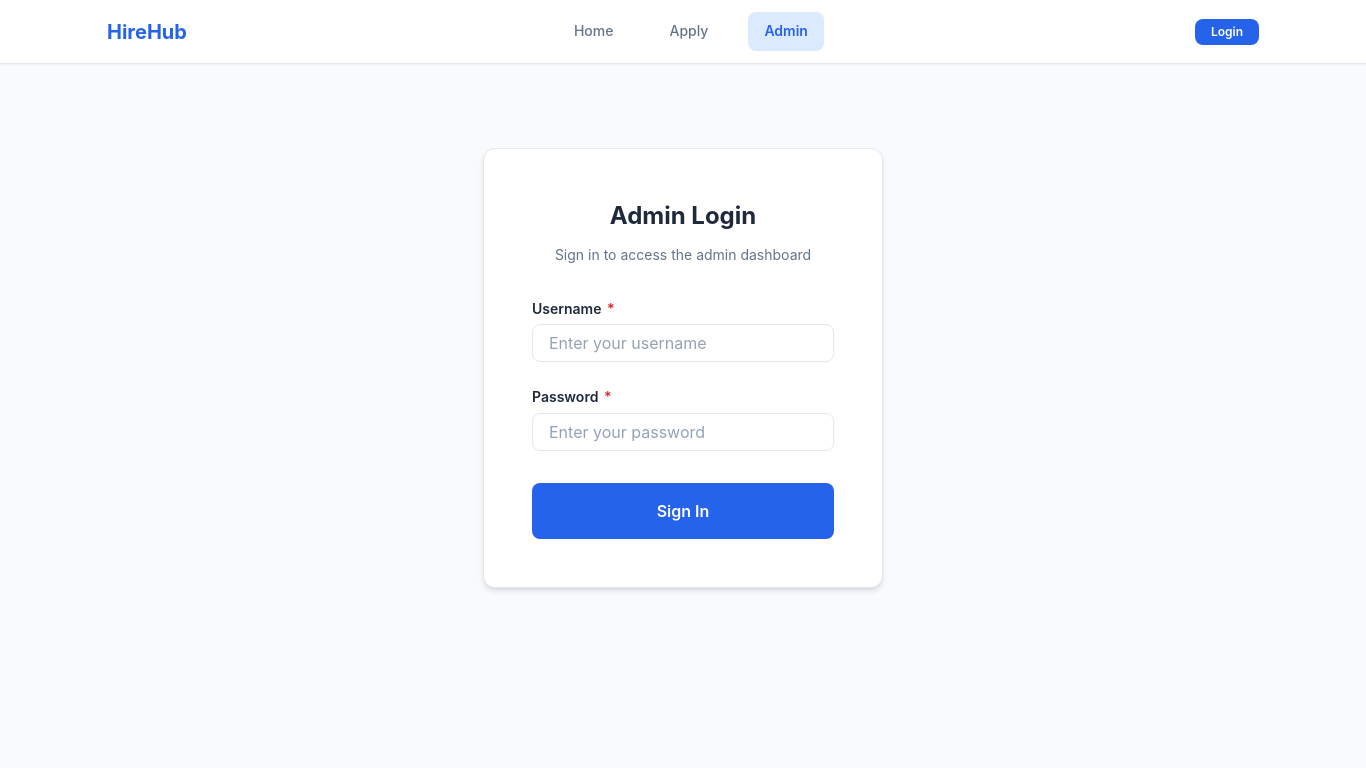
Test: App › Admin route › shows validation error when submitting empty login form
The width and height of the screenshot is (1366, 768).
Click the link "Admin" at [786, 32], box [748,12,824,51]
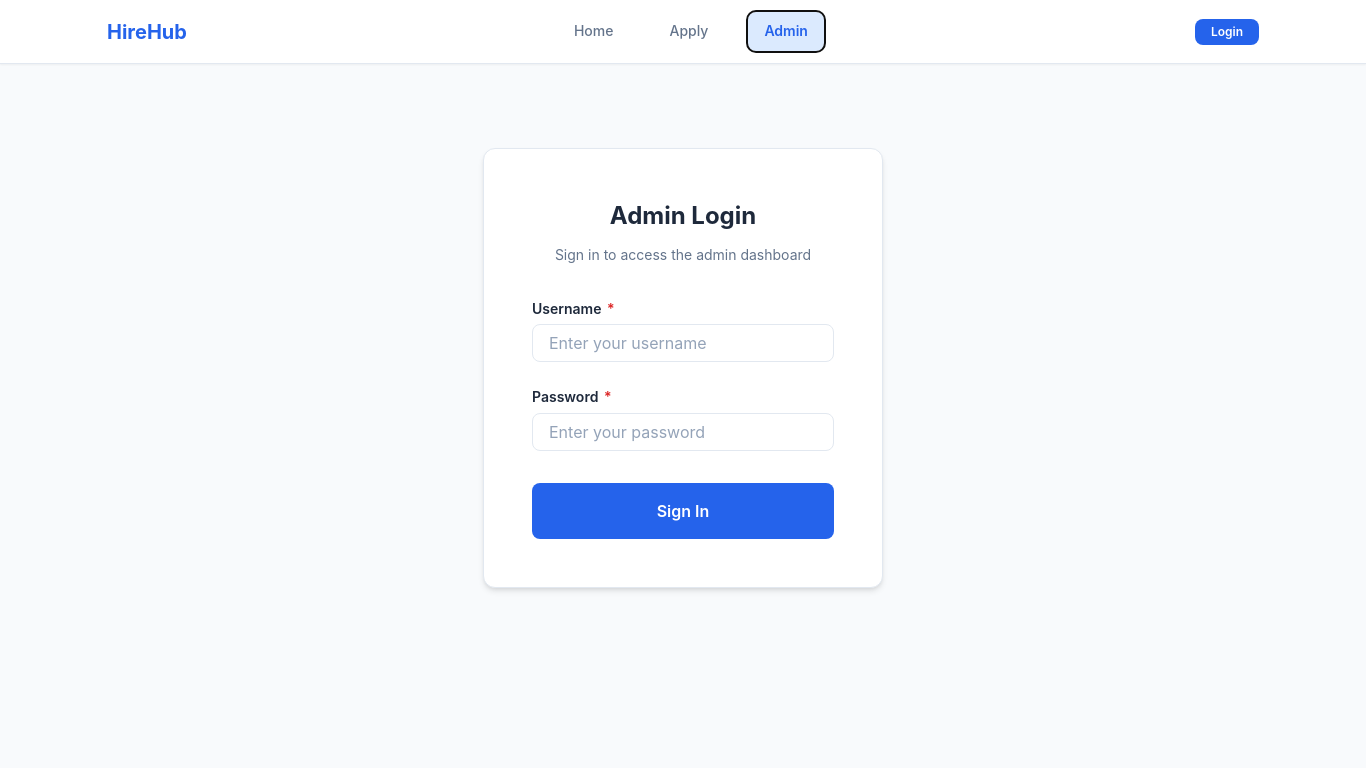
Click the button "Sign In" at [683, 511], box [532,483,834,539]
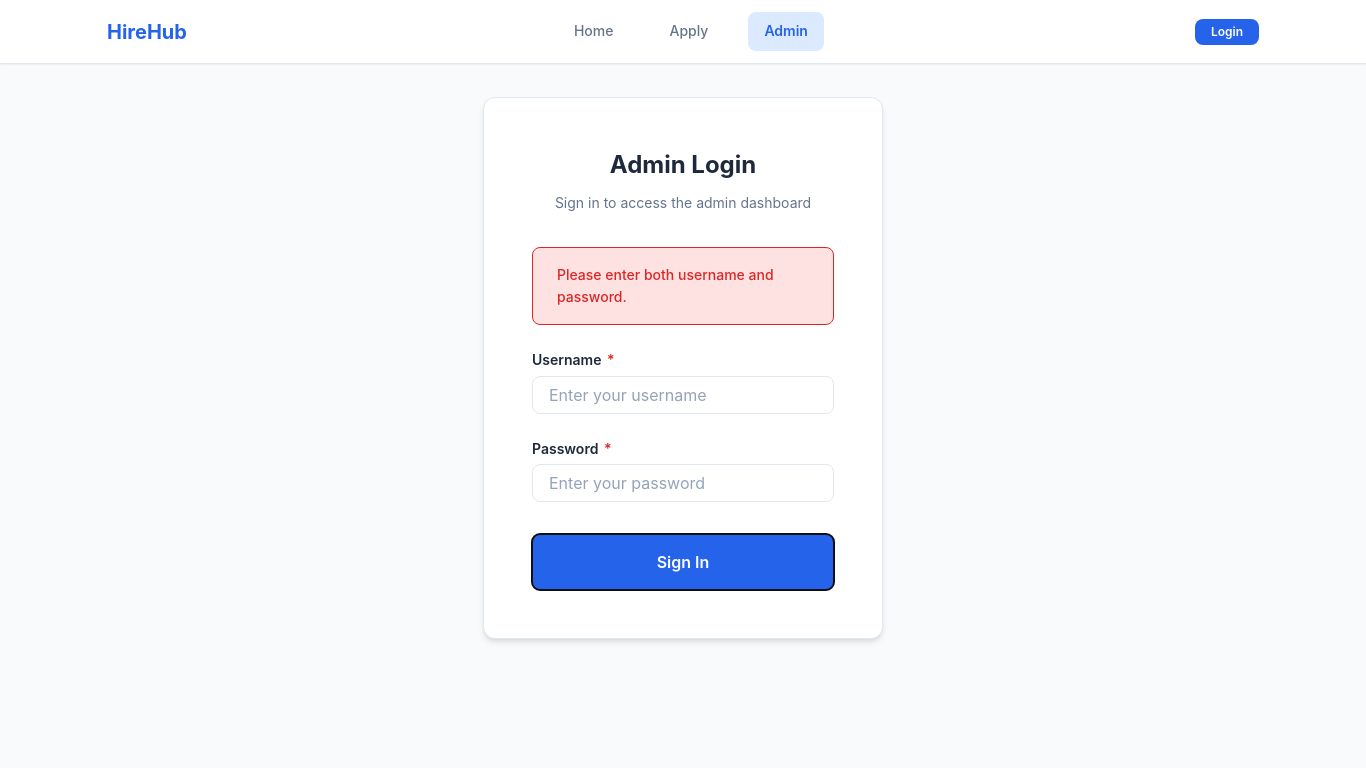
Check: the text "Please enter both username and password." is shown, box [532,247,834,325]
